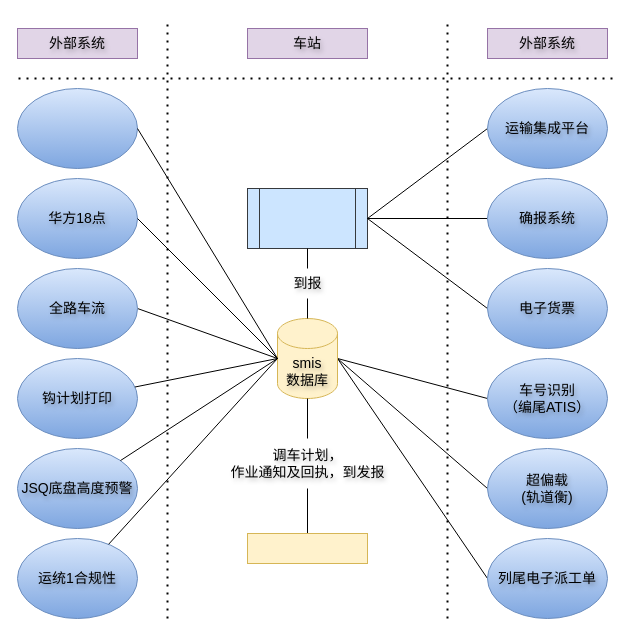
Image size: 638x637. Some labels were removed from this diagram. The box of each missing label's shape, as (x1, y1, x2, y2) in pixels:
Sam控制系统: (246, 532, 368, 564)
信息系统及服务器: (246, 188, 368, 248)
货管平台: (16, 88, 138, 168)
